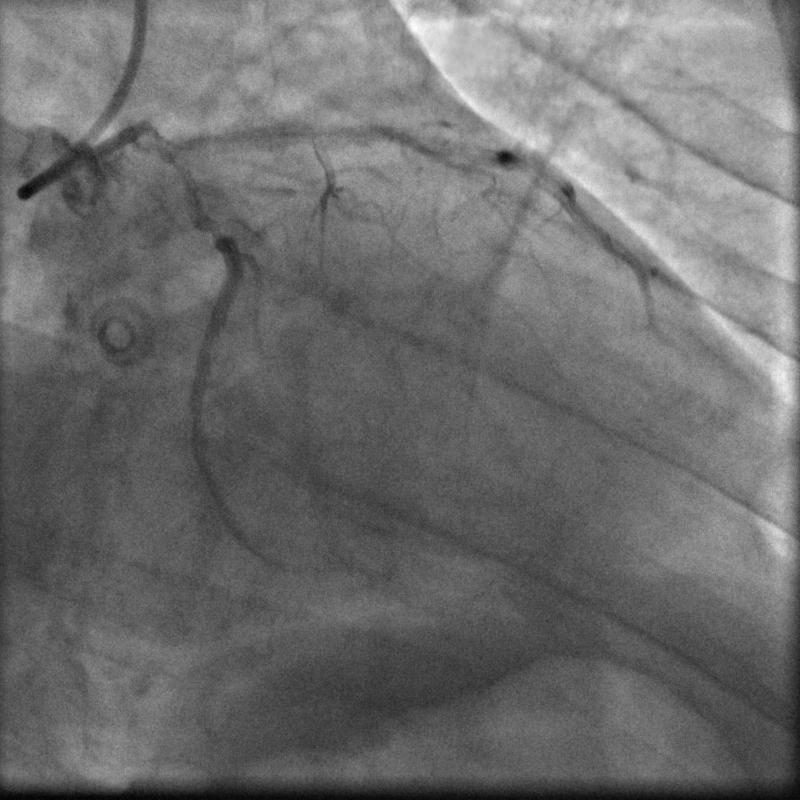Stenosis: (205, 226, 223, 239)
